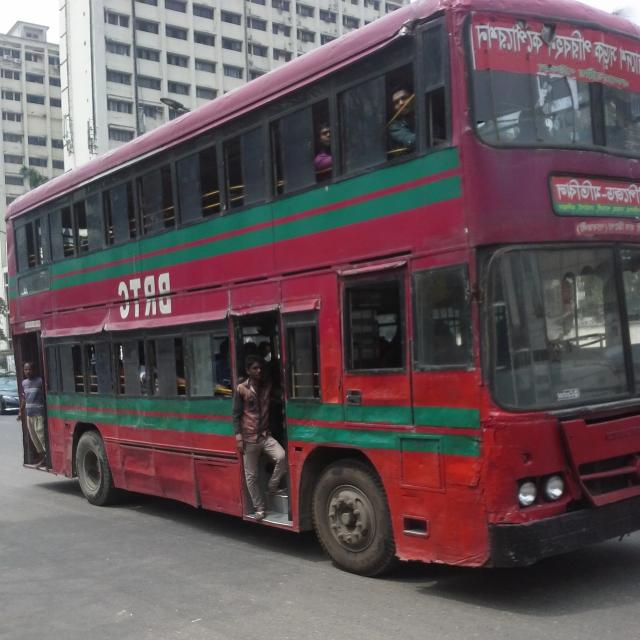Double decker: (9, 1, 639, 584)
